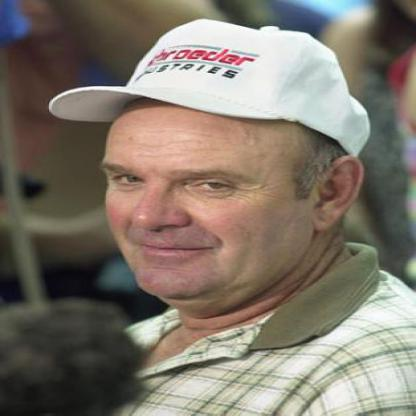face: (94, 62, 321, 309)
